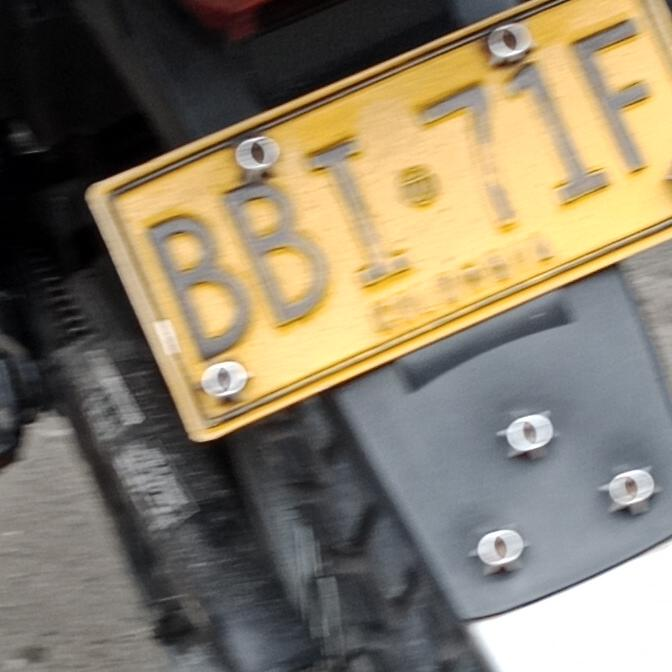plates: (82, 0, 672, 457)
